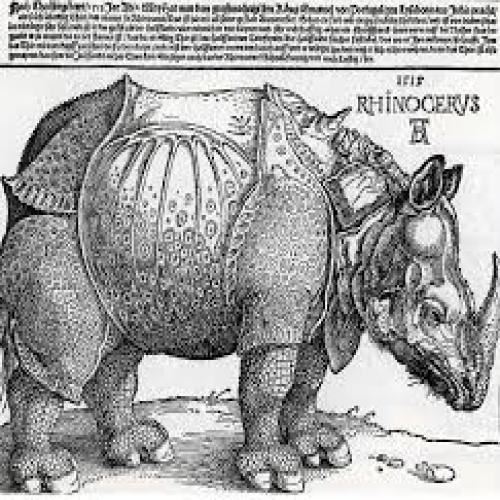rhino-endangered: (6, 89, 500, 474)
